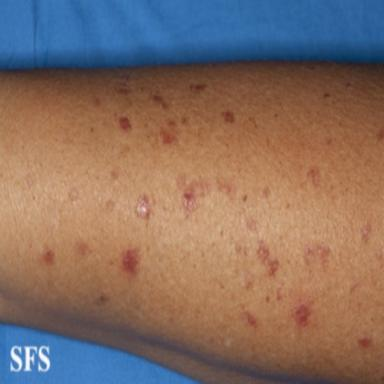Porokeratosis: (121, 247, 140, 275)
